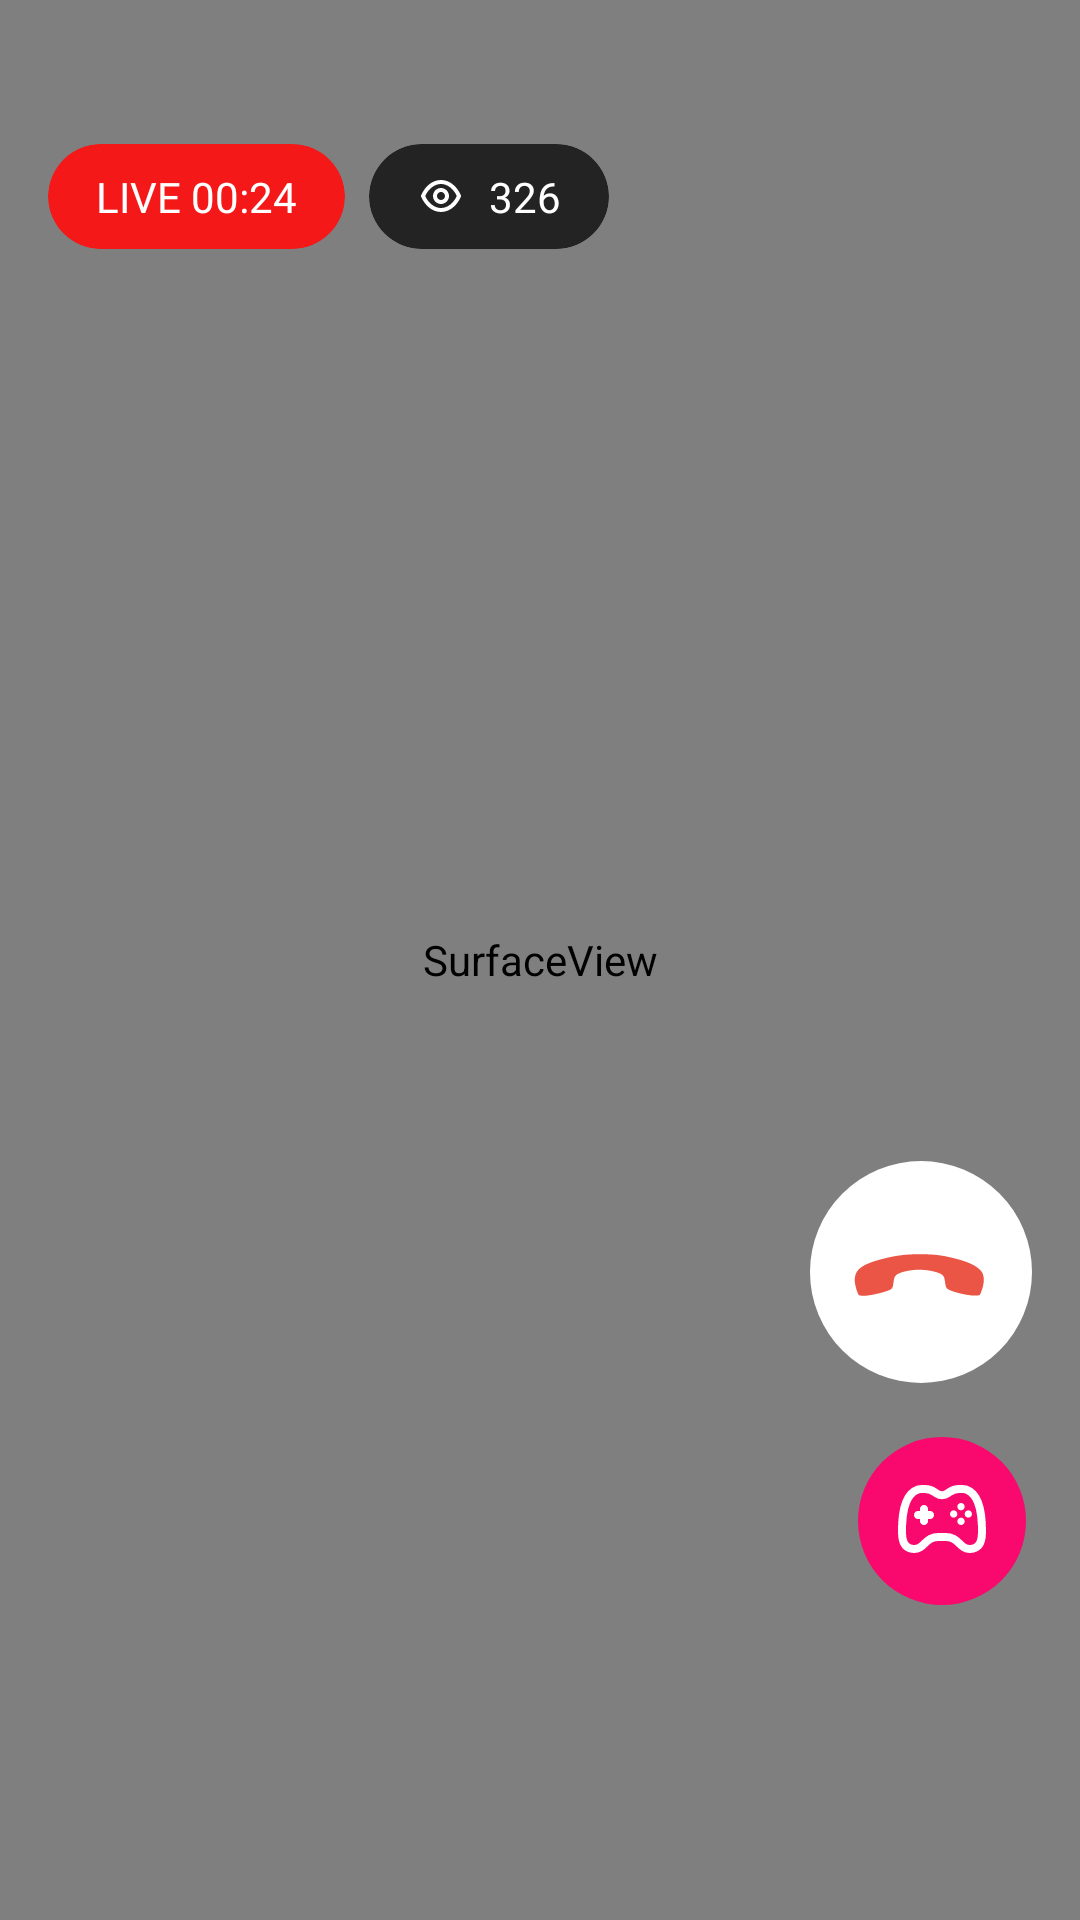

Locate icon controls on the screen. Image size 1080px×1920px, boxes as (x1,y1,x2,y2).
decline: (810,1161,1032,1383)
eyes: (421,180,461,212)
game: (858,1437,1026,1605)
